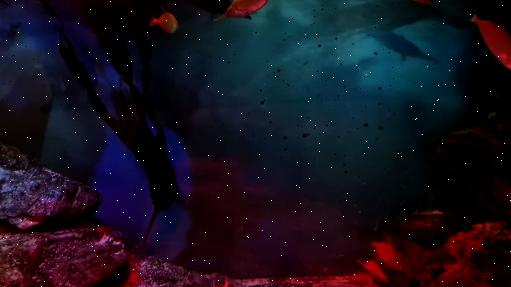Fish: (366, 31, 437, 63), (470, 14, 510, 54), (214, 0, 263, 21), (372, 242, 404, 271), (149, 6, 179, 34), (358, 260, 389, 284), (349, 273, 373, 286), (416, 0, 433, 5), (0, 0, 11, 6), (227, 280, 228, 286)
